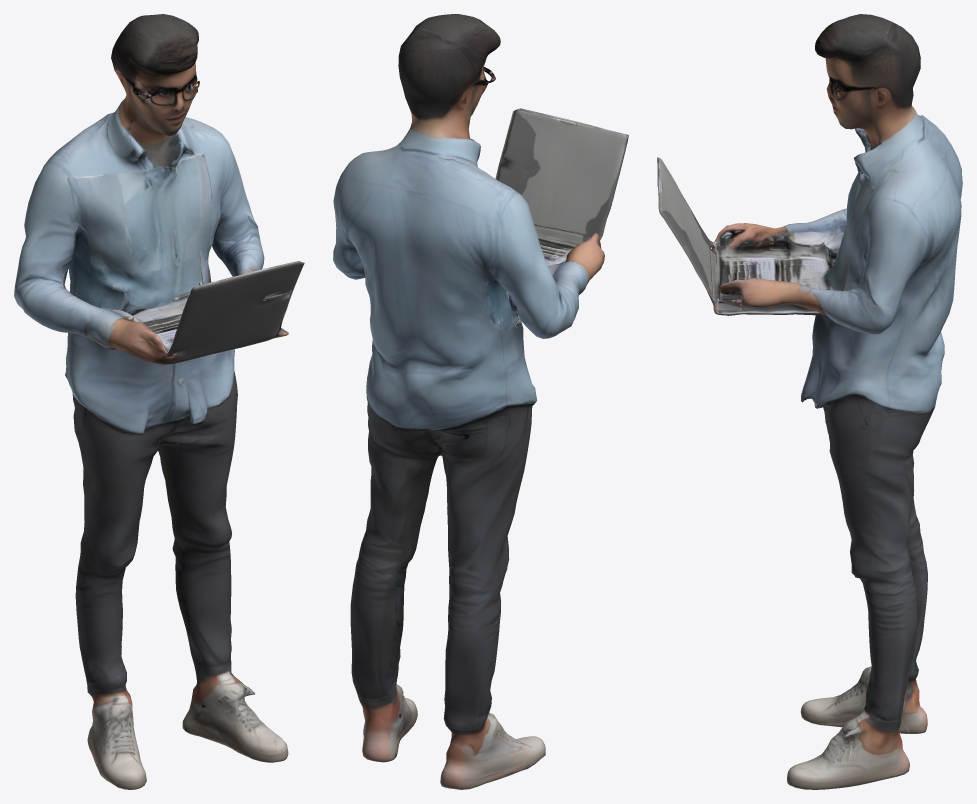
3 renders of one model, left to right at view 1: azimuth 30°, elevation 25°; view 2: azimuth 150°, elevation 25°; view 3: azimuth 270°, elevation 25°, orthographic. The views are drawn at different scales.
Bounding box in the file's own units: 0.6696 × 2 × 0.7638.
1 material, 1 textured.
